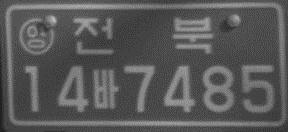1: (17, 63, 48, 112)
4: (56, 64, 89, 112), (163, 64, 195, 113)
5: (241, 64, 276, 114)
7: (123, 63, 156, 112)
8: (201, 64, 236, 112)
바: (91, 68, 118, 110)
영: (17, 17, 54, 55)
전북_D: (72, 16, 213, 56)
